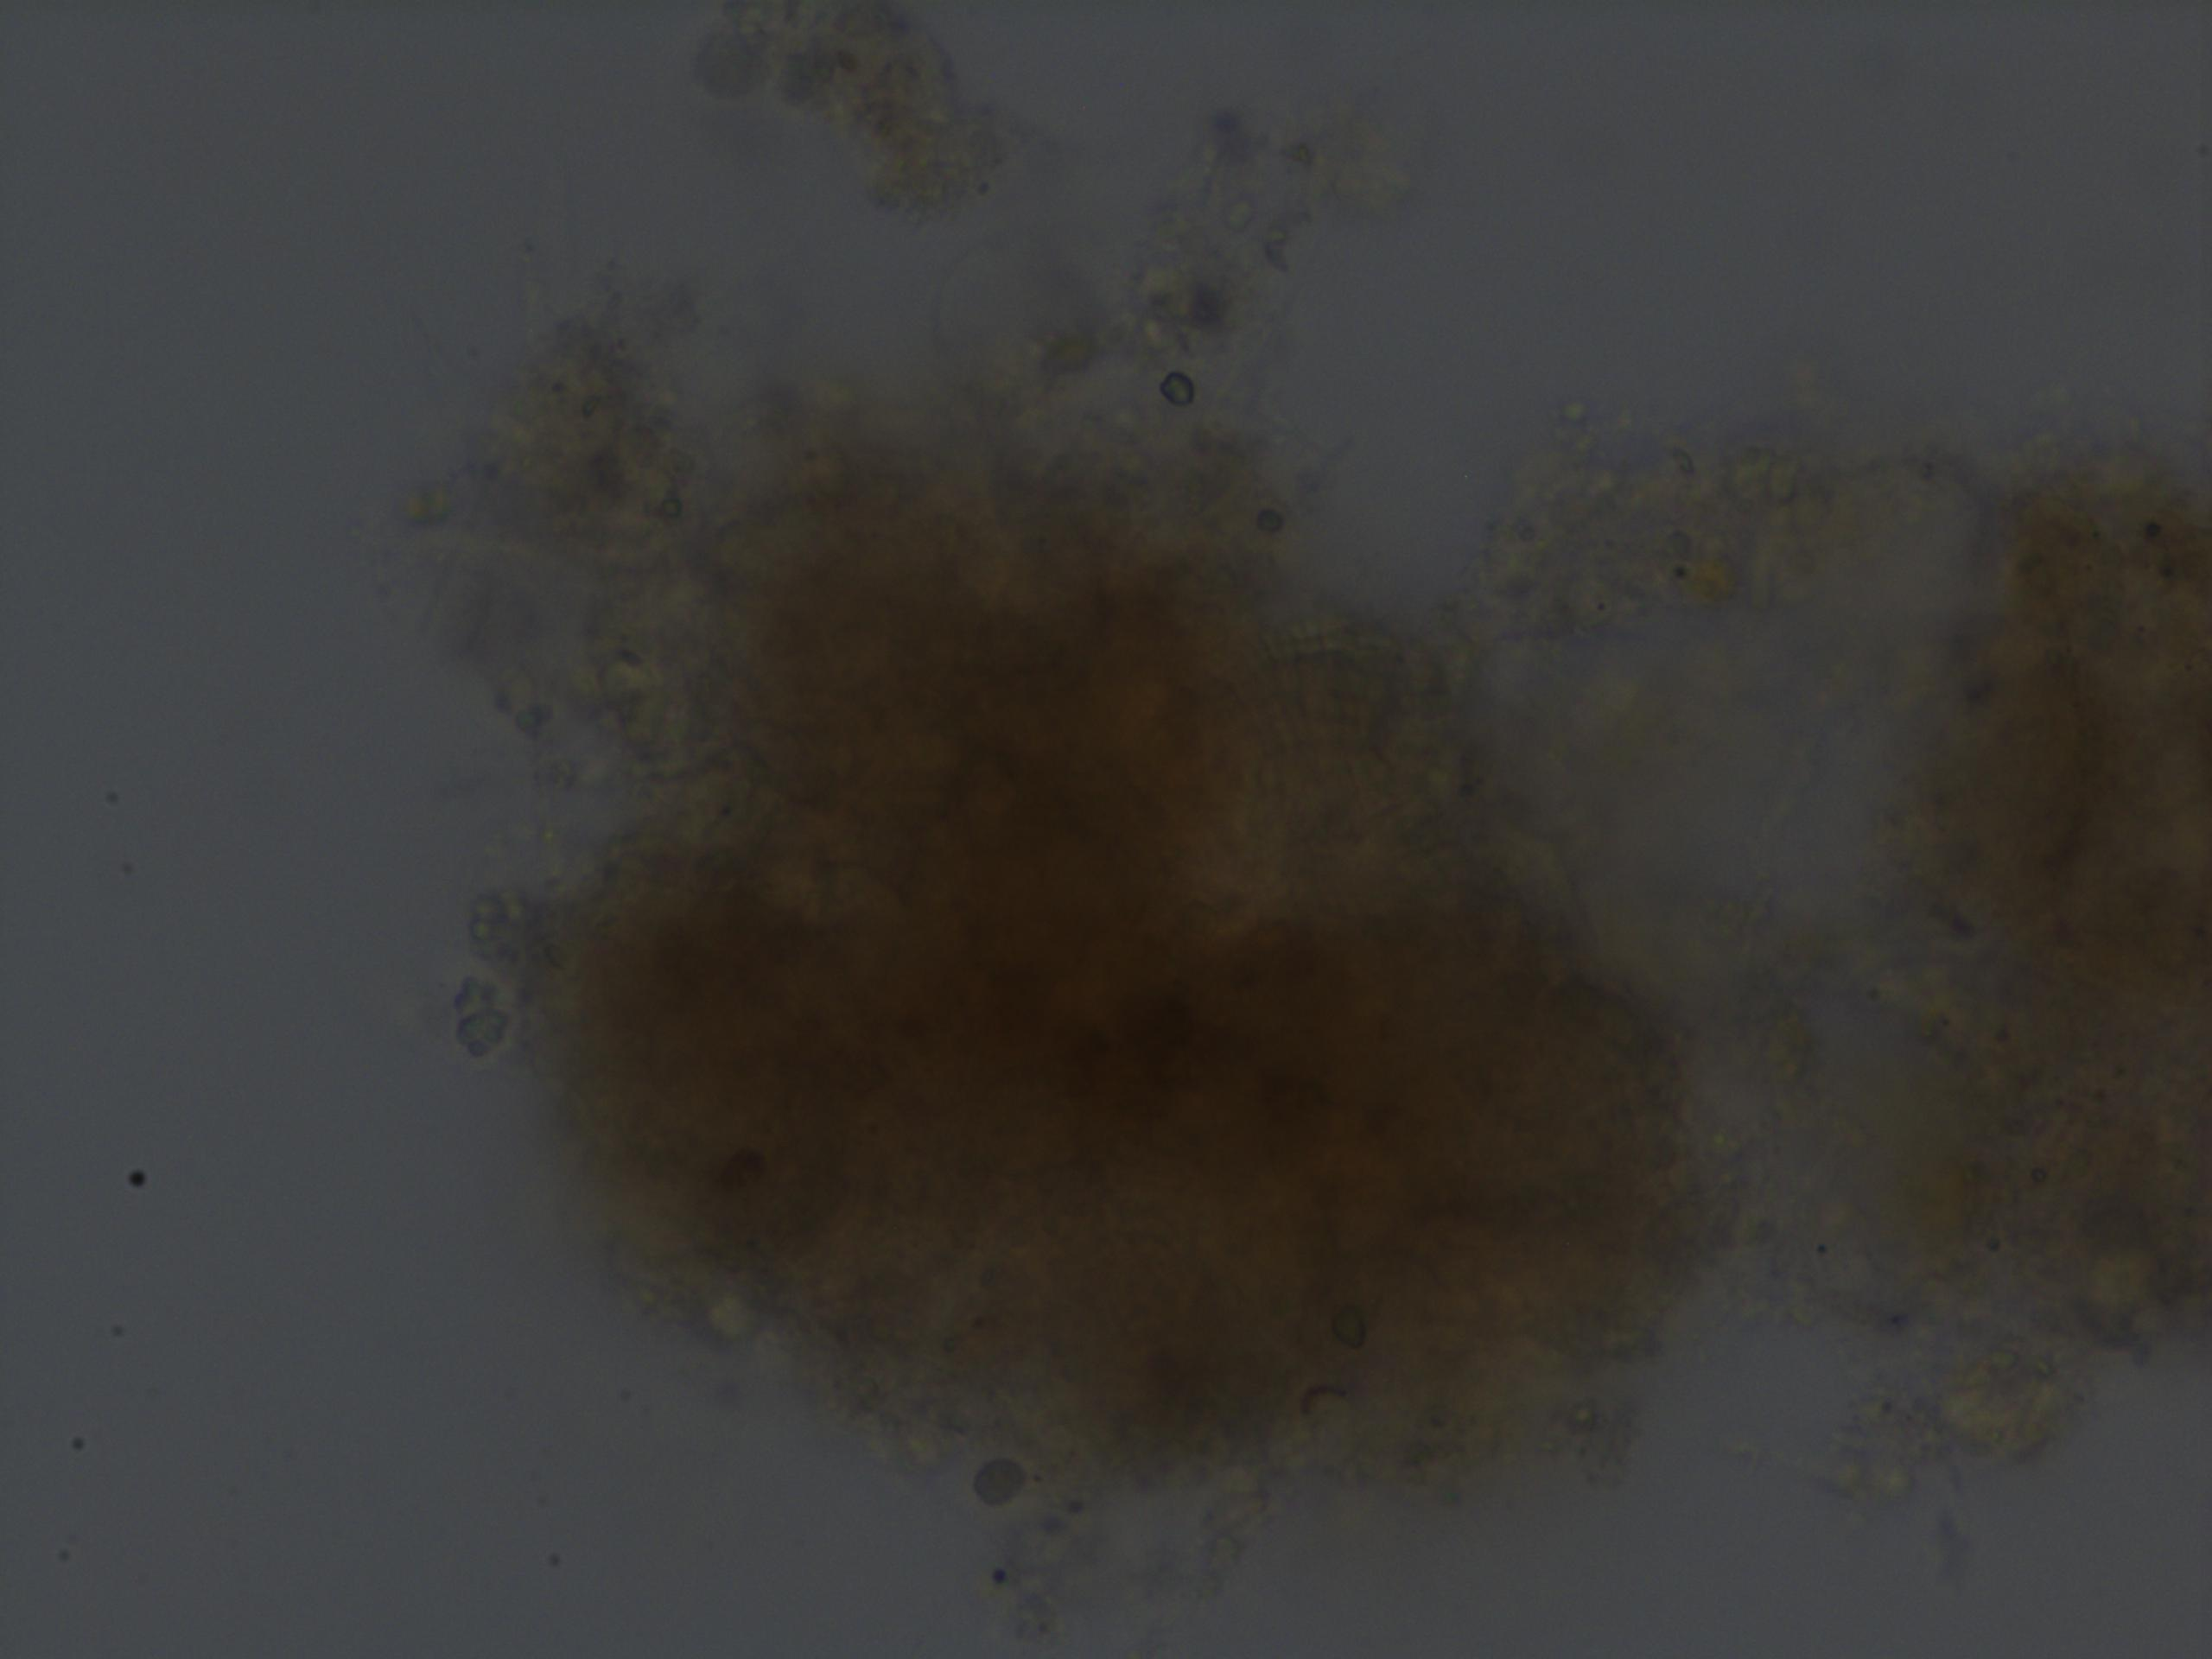spherical_floc: (517, 373, 1766, 1520)
